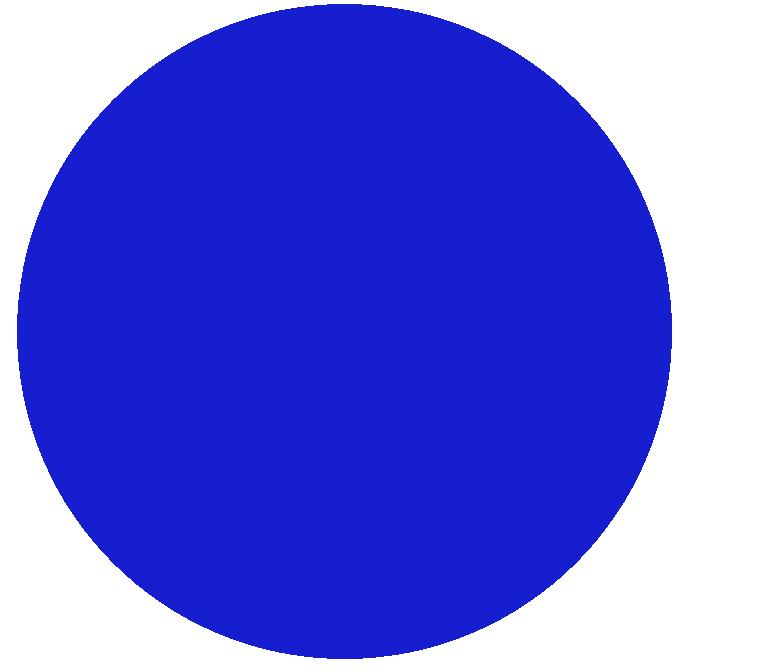blue_circle: (5, 0, 691, 664)
